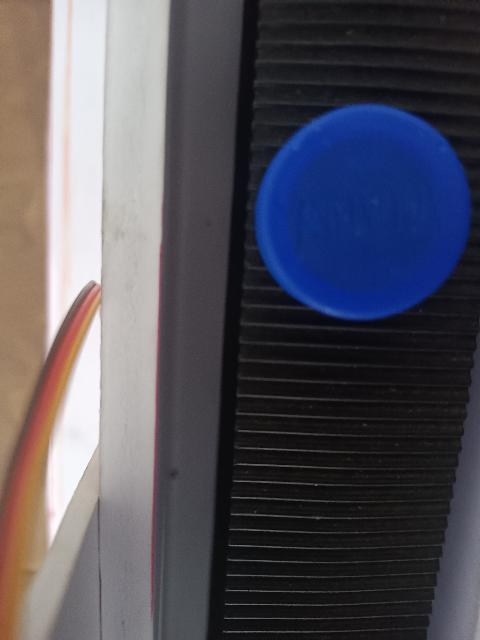bottlecap: (256, 97, 474, 325)
